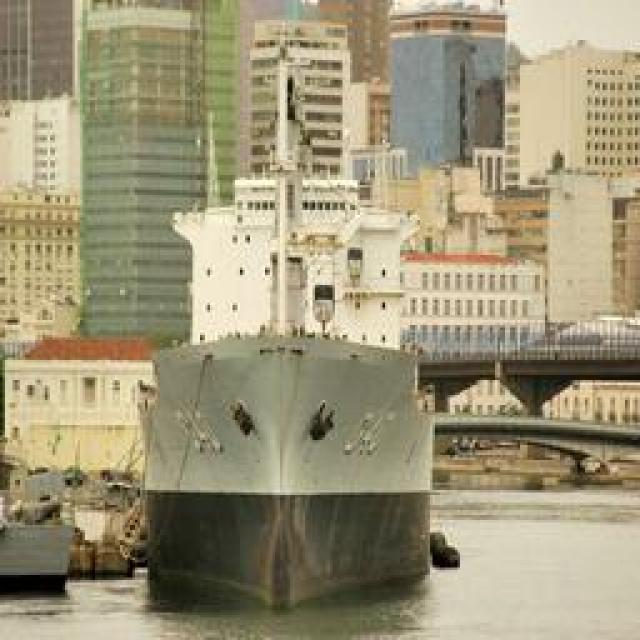CIV_Ship: (134, 321, 444, 611)
